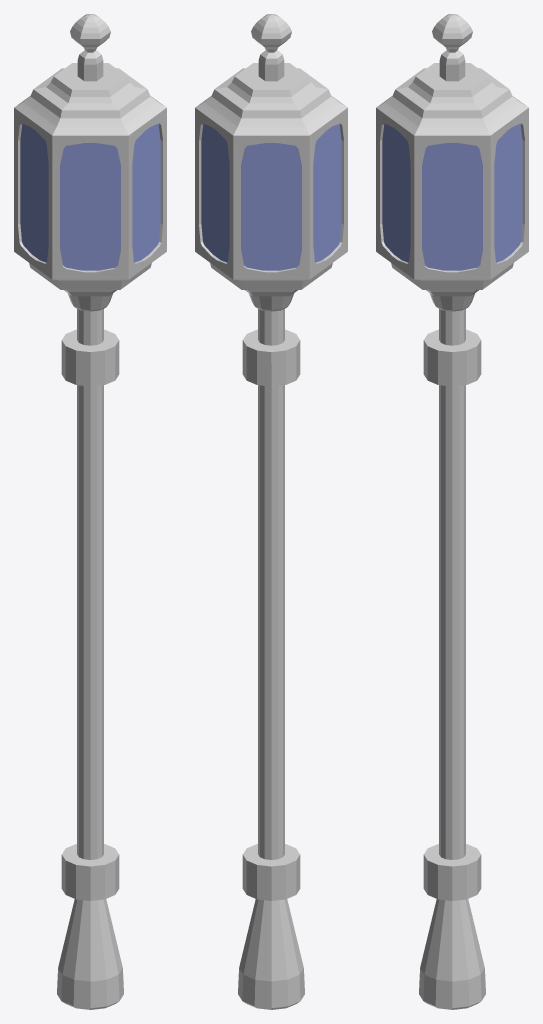
File: Streetlight.fbx
3 renders of one model, left to right at view 1: azimuth 30°, elevation 25°; view 2: azimuth 150°, elevation 25°; view 3: azimuth 270°, elevation 25°, orthographic.
Parts seen in each view (by area): view 1: Cylinder.001, Cylinder, Cylinder.002; view 2: Cylinder.001, Cylinder, Cylinder.002; view 3: Cylinder.001, Cylinder, Cylinder.002.
Boxes of the visible parts, box(x1,y1,x2,y2) form: Cylinder.001: box(57, 293, 123, 1009); Cylinder: box(14, 14, 166, 296); Cylinder.002: box(20, 124, 160, 270); Cylinder.001: box(238, 293, 304, 1009); Cylinder: box(195, 14, 347, 296); Cylinder.002: box(201, 124, 341, 270); Cylinder.001: box(419, 293, 485, 1009); Cylinder: box(376, 14, 528, 296); Cylinder.002: box(382, 124, 522, 270).
Bounding box in the file's own units: 19.42 × 160 × 22.42.
